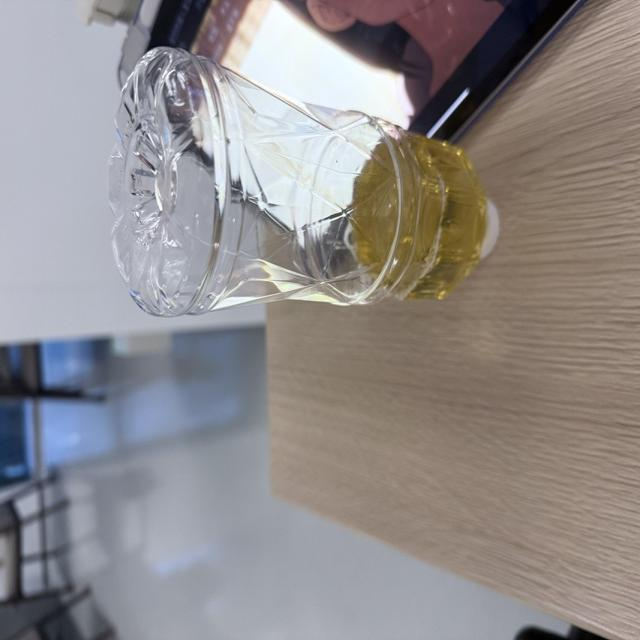low: (109, 49, 496, 316)
